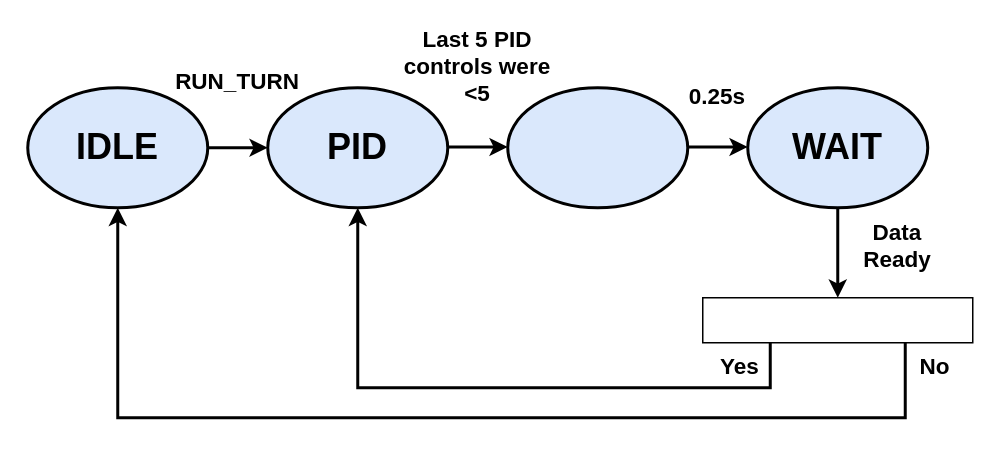
This 999x456 diagram has some shape labels left out. The centre of each missing label's shape, as x and y in pixels:
"num_measurements < 24?" goes at (837,319).
"STOP" goes at (597,147).
